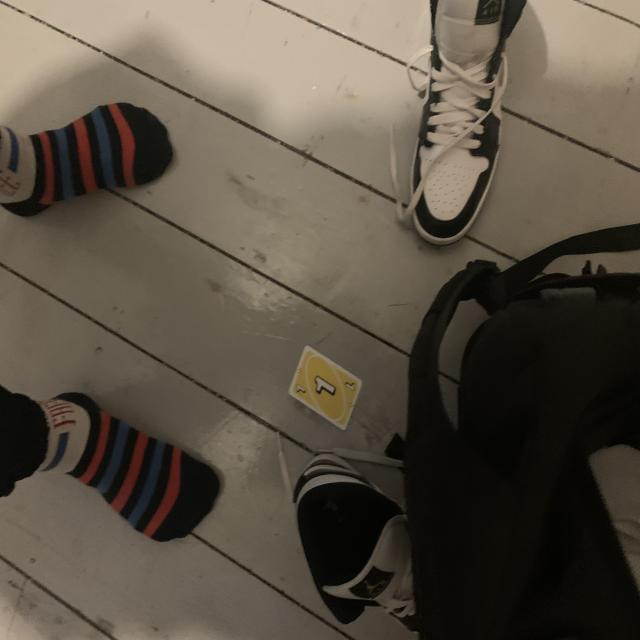lyellow-1: (294, 383, 308, 397)
